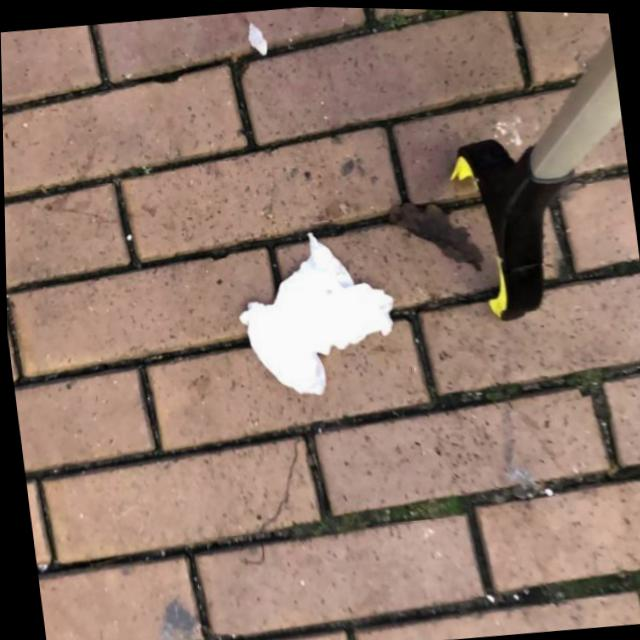Paper: (226, 219, 400, 405)
